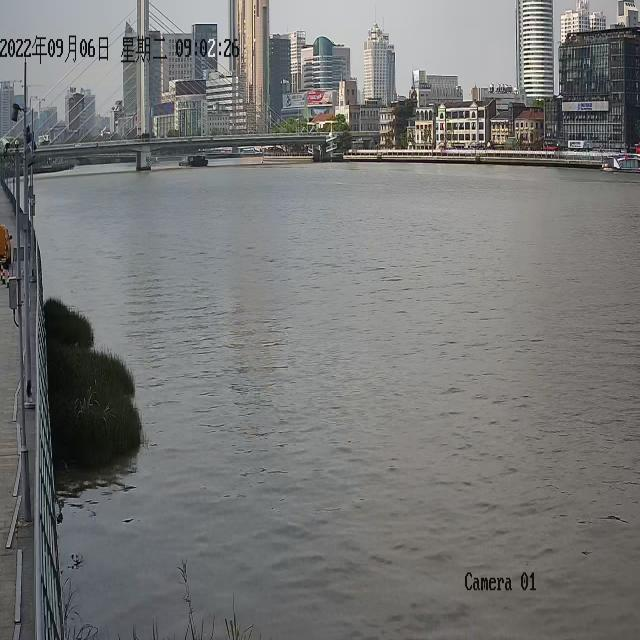ship: (178, 155, 207, 166), (151, 156, 159, 164)
